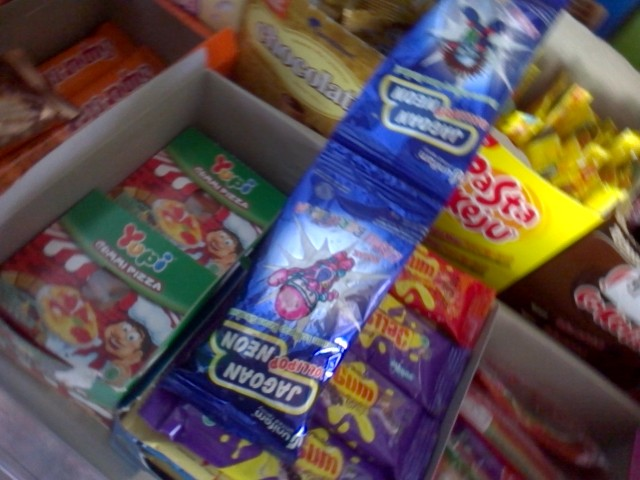jagoan neon: (158, 149, 439, 468), (325, 1, 564, 215)
